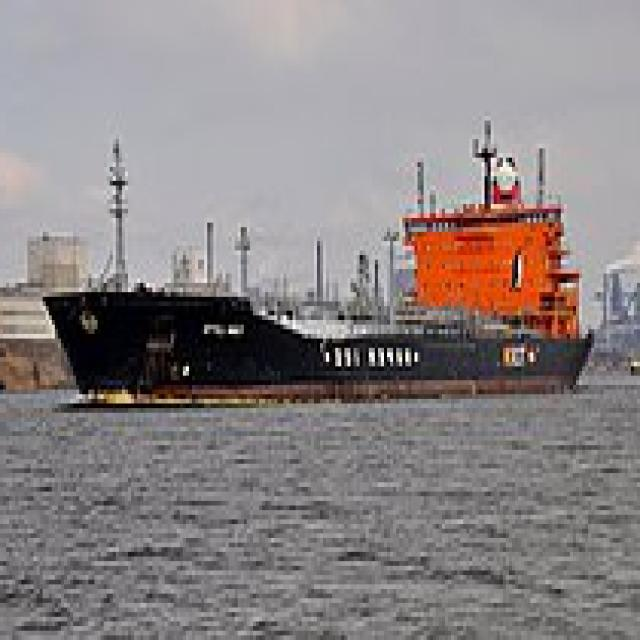Tanker: (46, 111, 597, 399)
